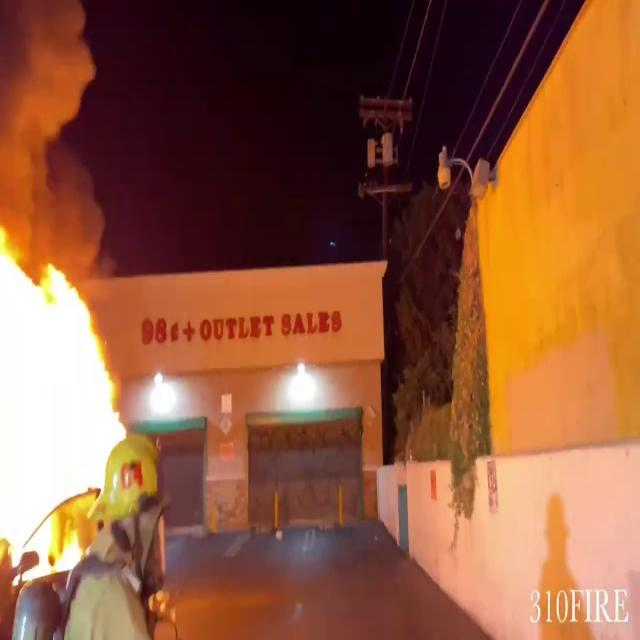Fire: (0, 202, 137, 569)
Smoke: (0, 0, 110, 247)
